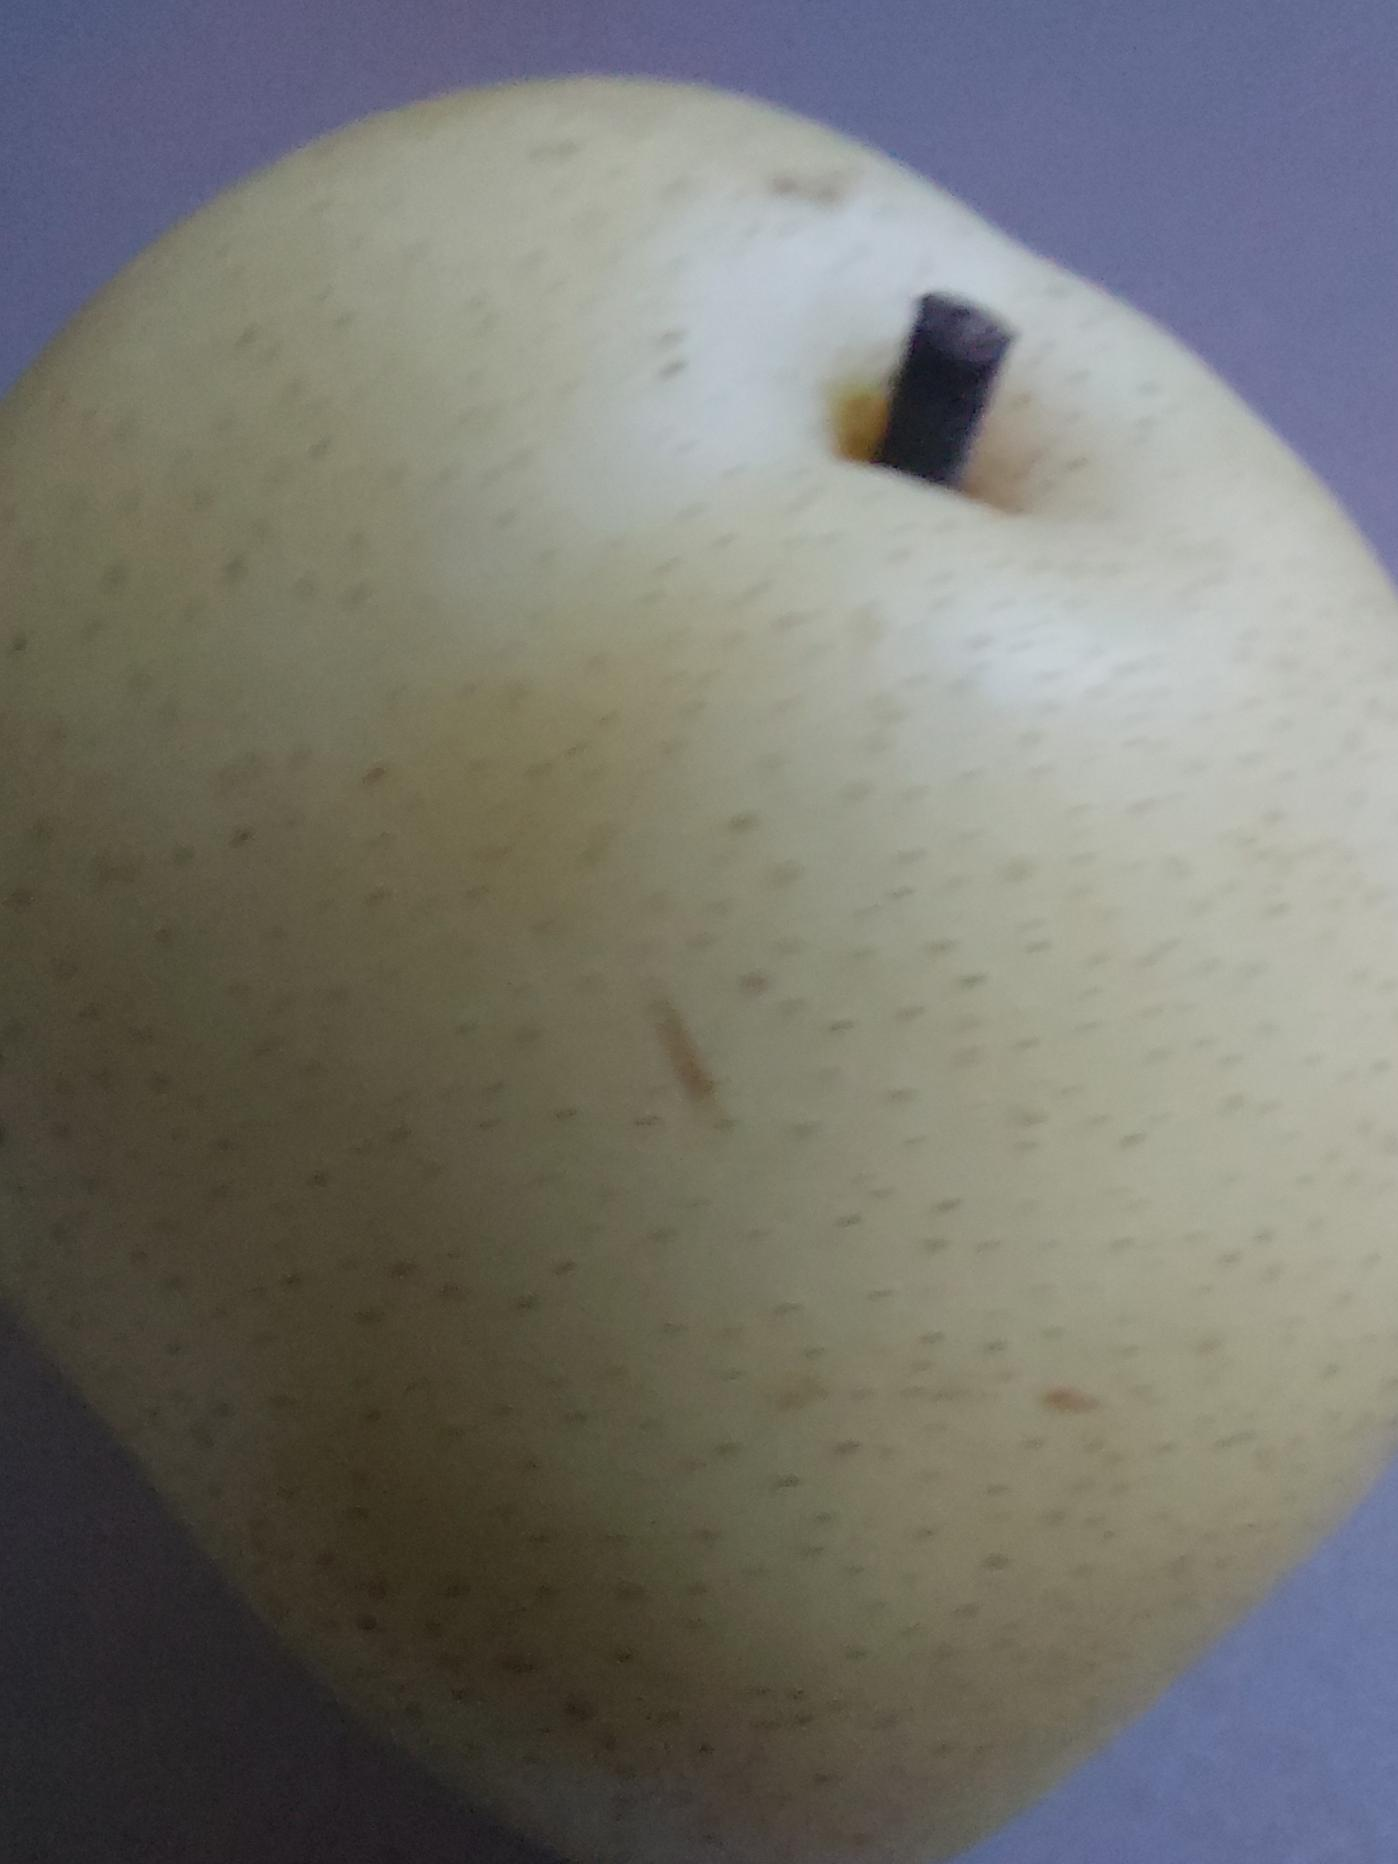Good Pear: (0, 21, 1398, 1864)
